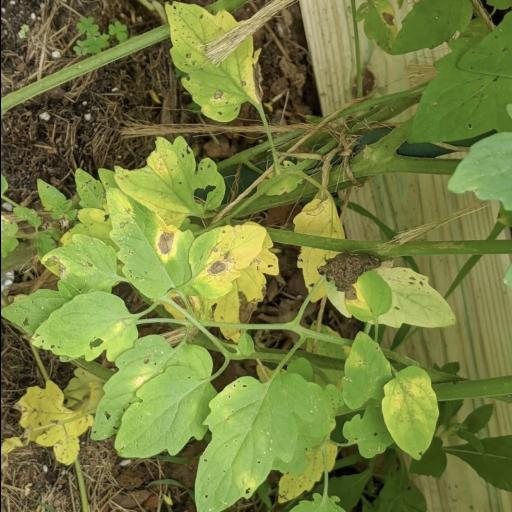disease_tomato: (162, 0, 262, 123), (102, 186, 194, 300), (188, 222, 268, 300)
